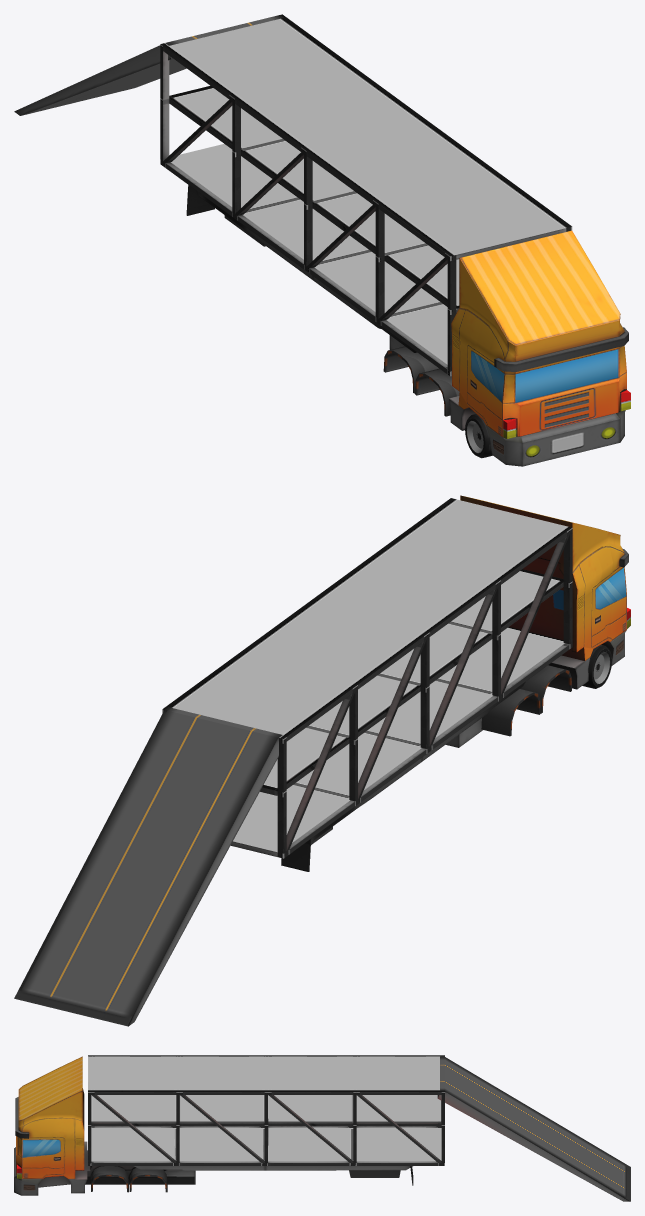
File: Truck_With_Carrier_new.fbx
3 views of the same model, one above another, from view 1: azimuth 30°, elevation 25°; view 2: azimuth 150°, elevation 25°; view 3: azimuth 270°, elevation 25° (orthographic). The views are drawn at different scales.
Visible parts, largest first — view 1: Trailer2, Truck, Ramp, FR_1_Wheel; view 2: Trailer2, Ramp, Truck, FR_1_Wheel; view 3: Trailer2, Truck, Ramp.
Part boxes in pixels (box(x1,y1,x2,y2)): Trailer2: box(160, 14, 572, 376); Truck: box(383, 230, 630, 466); Ramp: box(14, 15, 283, 115); FR_1_Wheel: box(465, 414, 492, 458); Trailer2: box(162, 498, 572, 871); Ramp: box(14, 707, 282, 1026); Truck: box(445, 495, 630, 747); FR_1_Wheel: box(582, 645, 611, 688); Trailer2: box(88, 1055, 444, 1185); Truck: box(14, 1056, 195, 1195); Ramp: box(437, 1056, 630, 1201).
Bounding box in the file's own units: 79.08 × 106 × 530.
